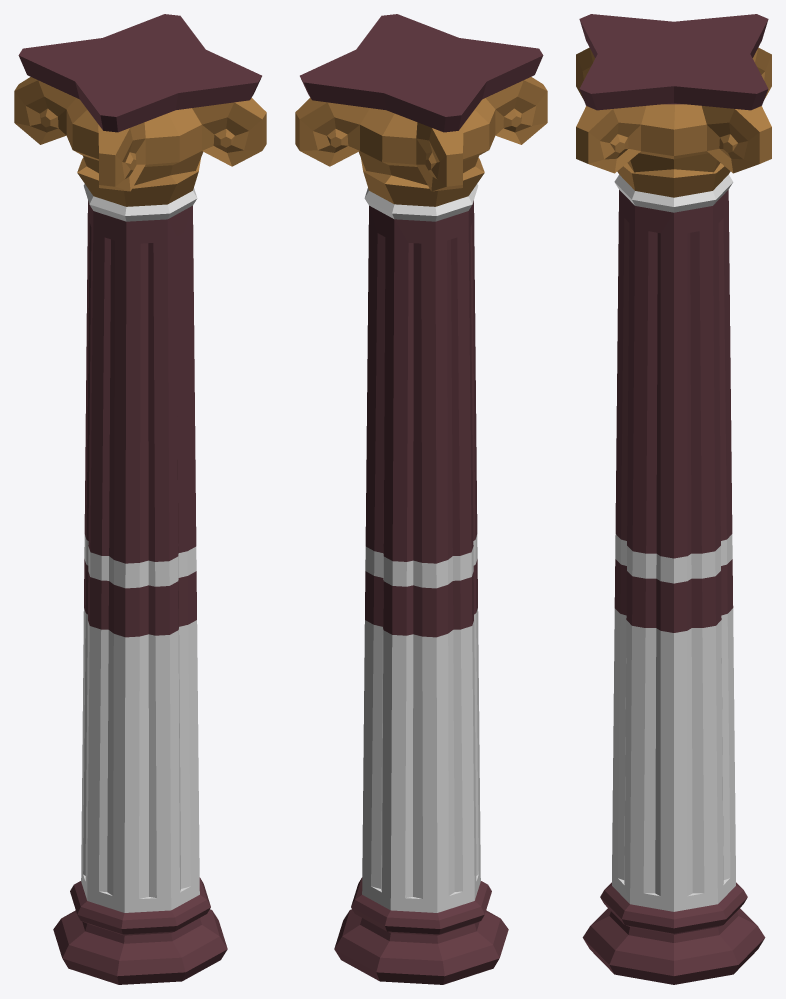
Rendered from SM_Pillar_Composite_Big_Color_Empire.fbx.
3 renders of one model, left to right at view 1: azimuth 30°, elevation 25°; view 2: azimuth 150°, elevation 25°; view 3: azimuth 270°, elevation 25°, orthographic.
Parts seen in each view (by area): view 1: SM_Pillar_Composite_Big_Color_Empire; view 2: SM_Pillar_Composite_Big_Color_Empire; view 3: SM_Pillar_Composite_Big_Color_Empire.
Boxes of the visible parts, x1,y1,x2,y2 form: SM_Pillar_Composite_Big_Color_Empire: [14, 14, 266, 984]; SM_Pillar_Composite_Big_Color_Empire: [295, 14, 547, 984]; SM_Pillar_Composite_Big_Color_Empire: [576, 14, 771, 984].
Bounding box in the file's own units: 2.01 × 10.15 × 2.01.
